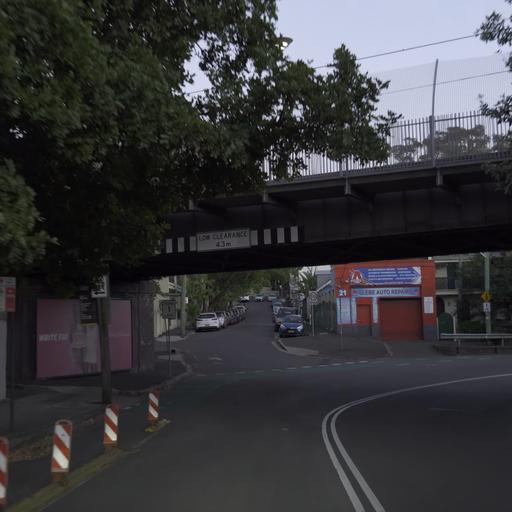Street light: (92, 32, 294, 403), (245, 32, 293, 51), (275, 32, 293, 49)
